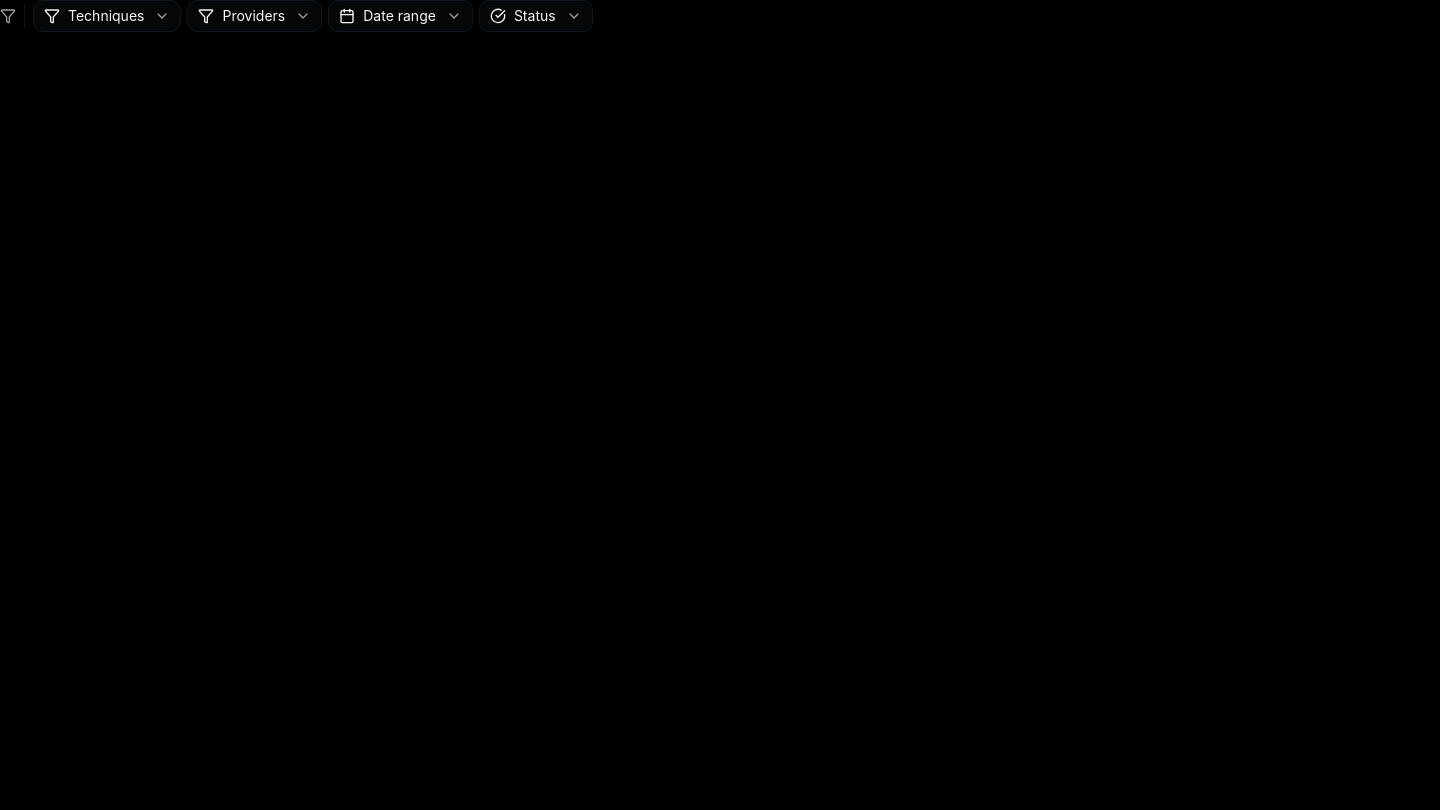
Test: FilterBar Component › Date Range Filter › opens date range popover on click
What coordinates should you click on to do the following:
click the button with aria-label "Filter by date range"
I would click on:
 (401, 16)
Its box is 328,0 -> 473,32.
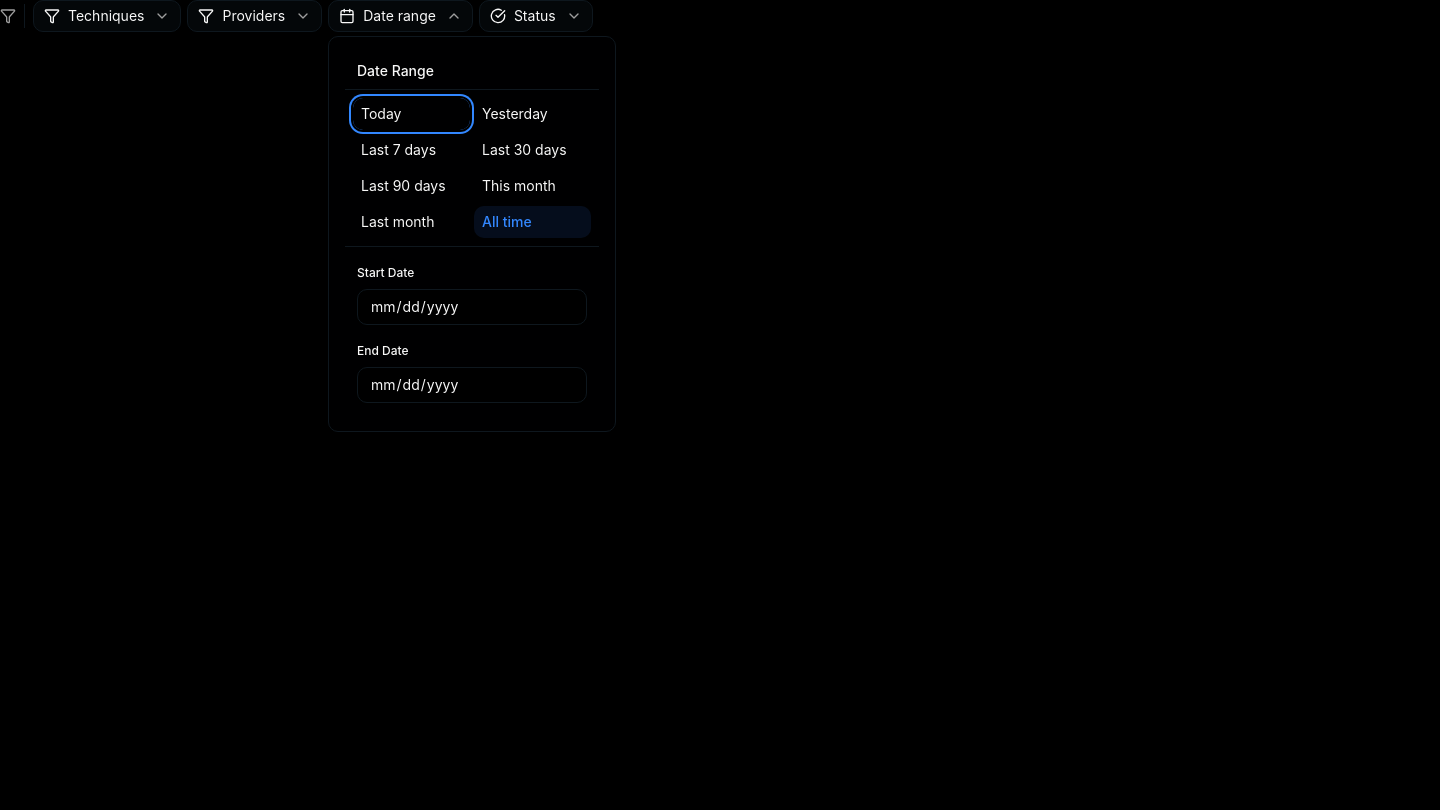
Check: the text "Date Range" is shown, box 357,61 -> 434,81
Check: the button "Today" is shown, box 353,98 -> 470,130
Check: the button "Last 7 days" is shown, box 353,134 -> 470,166
